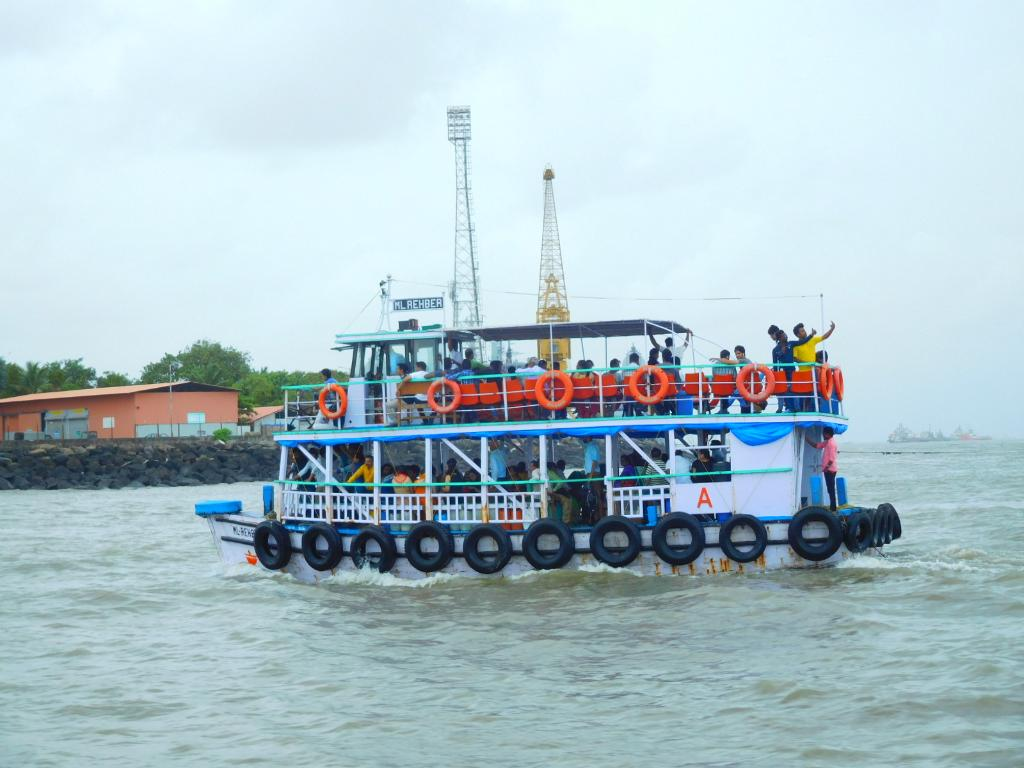PassengerShip: (192, 302, 898, 586)
